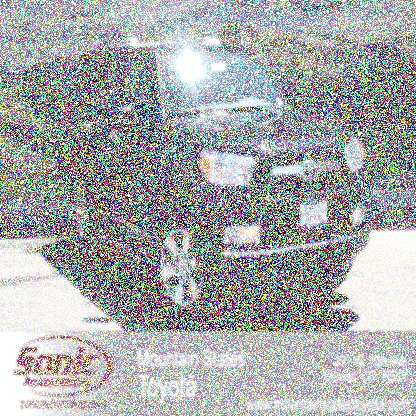Vehicle: (62, 35, 372, 326)
